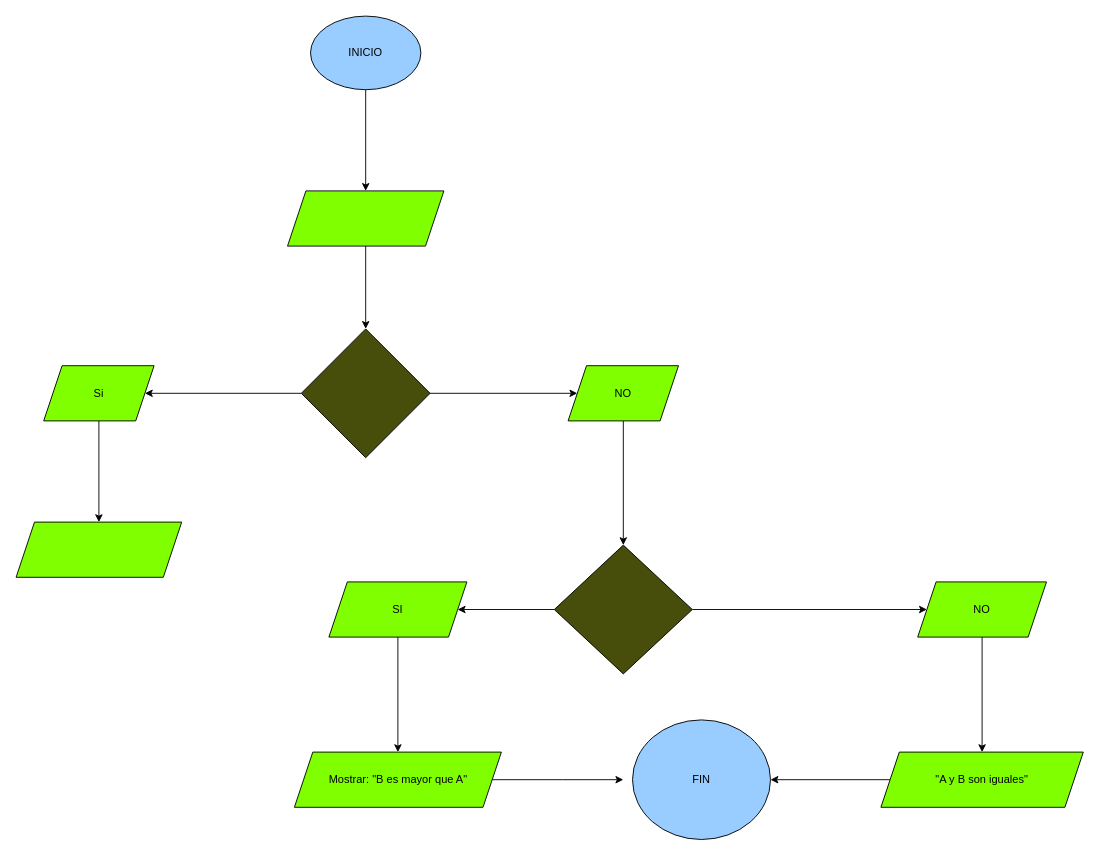
The diagram is 1099 pixels wide and 856 high, and some of its shapes have lost their labels. Each missing label, with the box of its shape:
"Pedir los valores de A y B": (287, 190, 444, 246)
"¿A > B?": (300, 328, 430, 458)
"¿B > A?": (553, 544, 692, 674)
Mostrar: "A es mayor que B": (15, 521, 182, 577)
